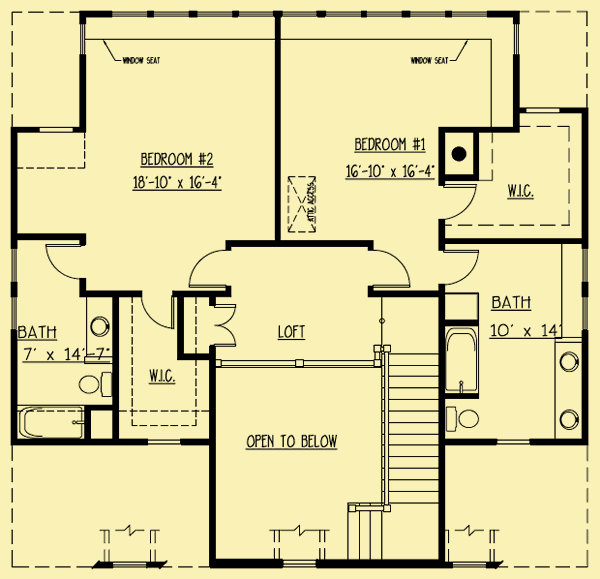there is a bedroom with walk in closet: (278, 10, 589, 248)
this bathroom has a bathtub with small and large sink: (445, 322, 589, 447), (9, 292, 120, 449)
this open area has stair case: (205, 338, 445, 568)
